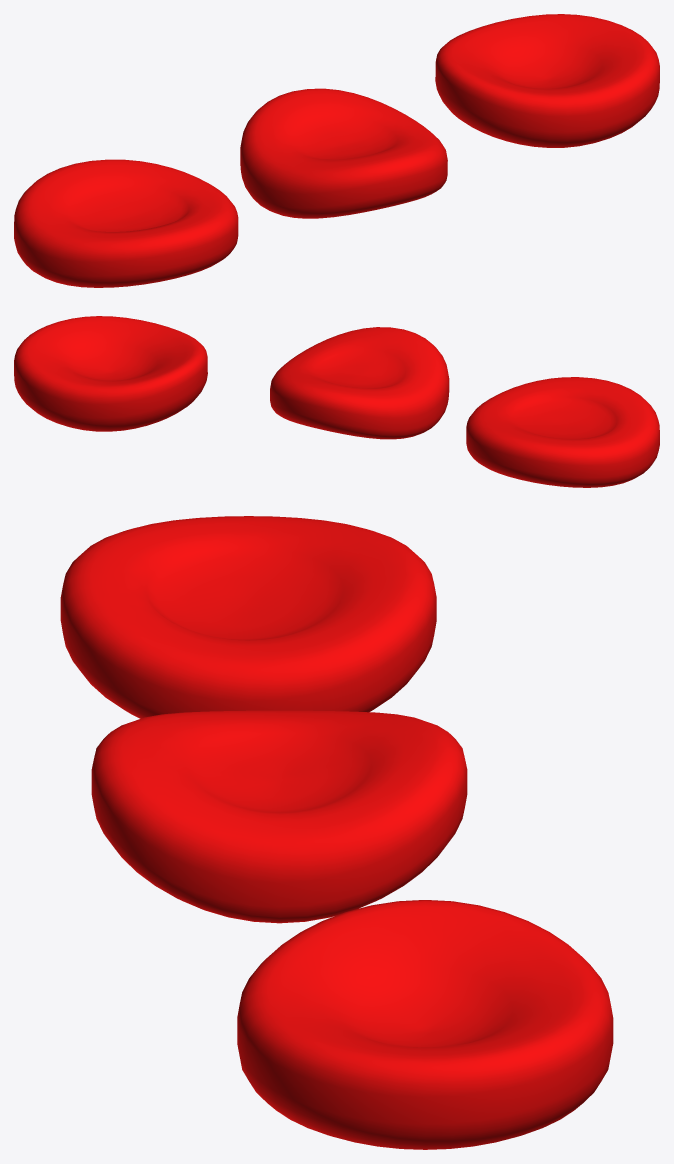
File: Blood Cells.FBX
3 views of the same model, one above another, from view 1: azimuth 30°, elevation 25°; view 2: azimuth 150°, elevation 25°; view 3: azimuth 270°, elevation 25° (orthographic). The views are drawn at different scales.
Visible parts, largest first — view 1: BloodCell_006, BloodCell_005, BloodCell_004; view 2: BloodCell_006, BloodCell_005, BloodCell_004; view 3: BloodCell_006, BloodCell_004, BloodCell_005.
Part boxes in pixels (left/top/right/bottom): BloodCell_006: left=435, top=14, right=659, bottom=147; BloodCell_005: left=14, top=159, right=238, bottom=287; BloodCell_004: left=240, top=88, right=447, bottom=218; BloodCell_006: left=14, top=316, right=207, bottom=431; BloodCell_005: left=466, top=377, right=659, bottom=487; BloodCell_004: left=270, top=327, right=449, bottom=439; BloodCell_006: left=237, top=900, right=613, bottom=1149; BloodCell_004: left=91, top=710, right=467, bottom=923; BloodCell_005: left=60, top=516, right=436, bottom=718.
Bounding box in the file's own units: 1.76 × 0.7284 × 0.1995.
